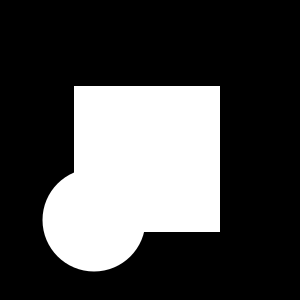circle: (74, 86, 220, 232)
rectangle: (43, 168, 146, 272)
